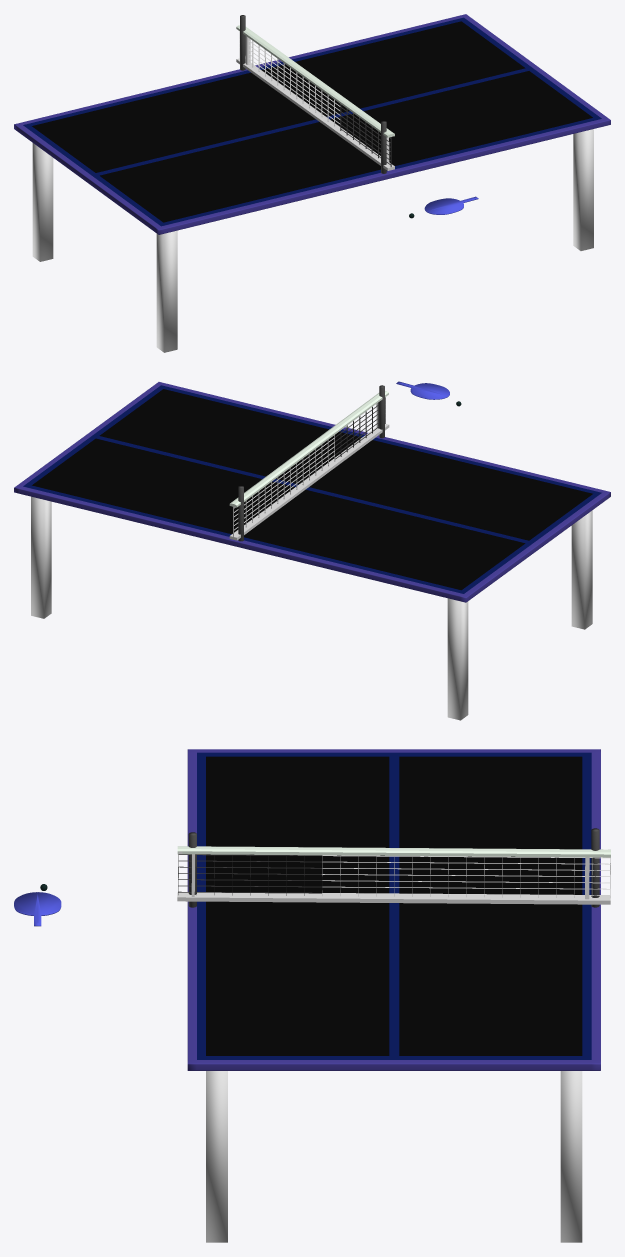
File: MESA DE PI9NG PONG1.glb
3 views of the same model, one above another, from view 1: azimuth 30°, elevation 25°; view 2: azimuth 150°, elevation 25°; view 3: azimuth 270°, elevation 25° (orthographic). The views are drawn at different scales.
Parts seen in each view (by area): view 1: MesaPrincipal, Pata4, Pata3, Pata1, Cube.002, Cube, Plane.002, Malla, Plane.001, Line004; view 2: MesaPrincipal, Pata1, Pata2, Pata4, Cube.002, Cube, Plane.002, Plane.001, Malla, Line004; view 3: MesaPrincipal, Cube.002, Pata2, Pata3, Cube, Plane.002, Plane.001, Malla, Line004.
Boxes of the visible parts, x1,y1,x2,y2 form: MesaPrincipal: [14, 14, 610, 234]; Pata4: [156, 230, 177, 352]; Pata3: [573, 129, 593, 250]; Pata1: [32, 143, 53, 261]; Cube.002: [236, 58, 394, 170]; Cube: [236, 25, 394, 137]; Plane.002: [290, 68, 340, 128]; Malla: [340, 104, 391, 166]; Plane.001: [239, 31, 289, 92]; Line004: [424, 196, 478, 214]; MesaPrincipal: [14, 382, 610, 602]; Pata1: [447, 598, 468, 720]; Pata2: [31, 496, 51, 618]; Pata4: [571, 510, 592, 629]; Cube.002: [229, 424, 389, 540]; Cube: [229, 391, 388, 507]; Plane.002: [284, 435, 335, 496]; Plane.001: [233, 473, 284, 536]; Malla: [335, 397, 385, 459]; Line004: [396, 381, 449, 399]; MesaPrincipal: [187, 749, 600, 1070]; Cube.002: [177, 892, 610, 904]; Pata2: [560, 1071, 582, 1242]; Pata3: [206, 1071, 227, 1242]; Cube: [177, 846, 610, 857]; Plane.002: [322, 855, 466, 896]; Plane.001: [466, 856, 610, 897]; Malla: [178, 854, 322, 895]; Line004: [14, 892, 61, 926].
Size of the model in its own units: 2.74 by 1.07 by 2.2.
